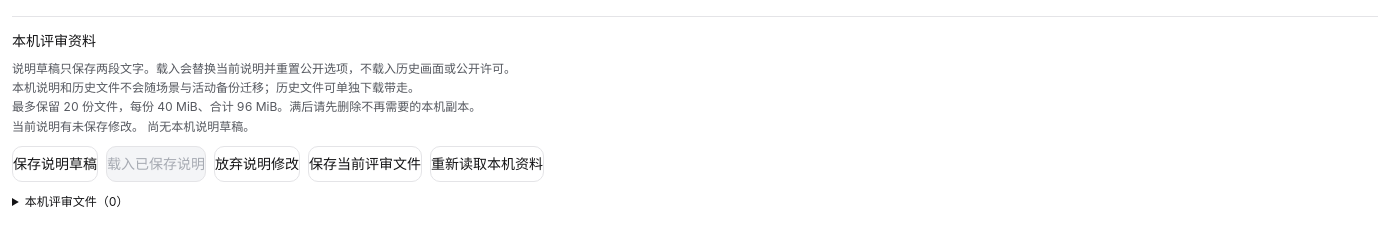
it: local review library panel › keeps the edit baseline dirty when the saved draft cannot be read back
The image size is (1378, 245).
What coordinates should you click on to do the following:
click the button "保存说明草稿"
I would click on:
 (55, 164)
Its box is [12,146,98,182].
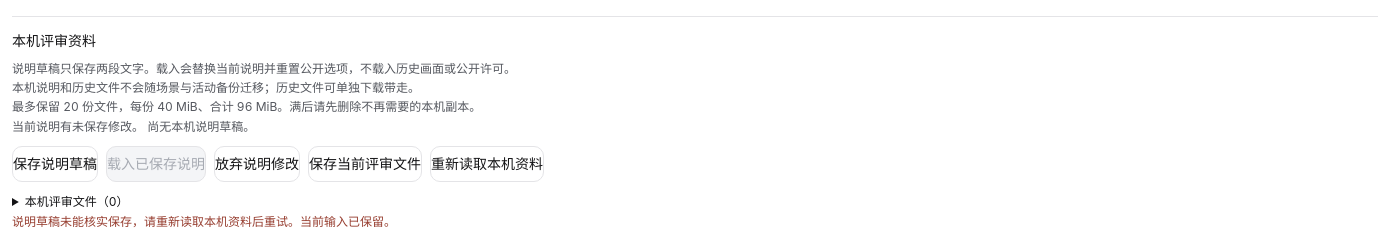
Expected: the text "当前说明有未保存修改。 尚无本机说明草稿。" is shown, [12,119,255,134]
Expected: the message "说明草稿未能核实保存，请重新读取本机资料后重试。当前输入已保留。" is shown, [12,214,396,229]
